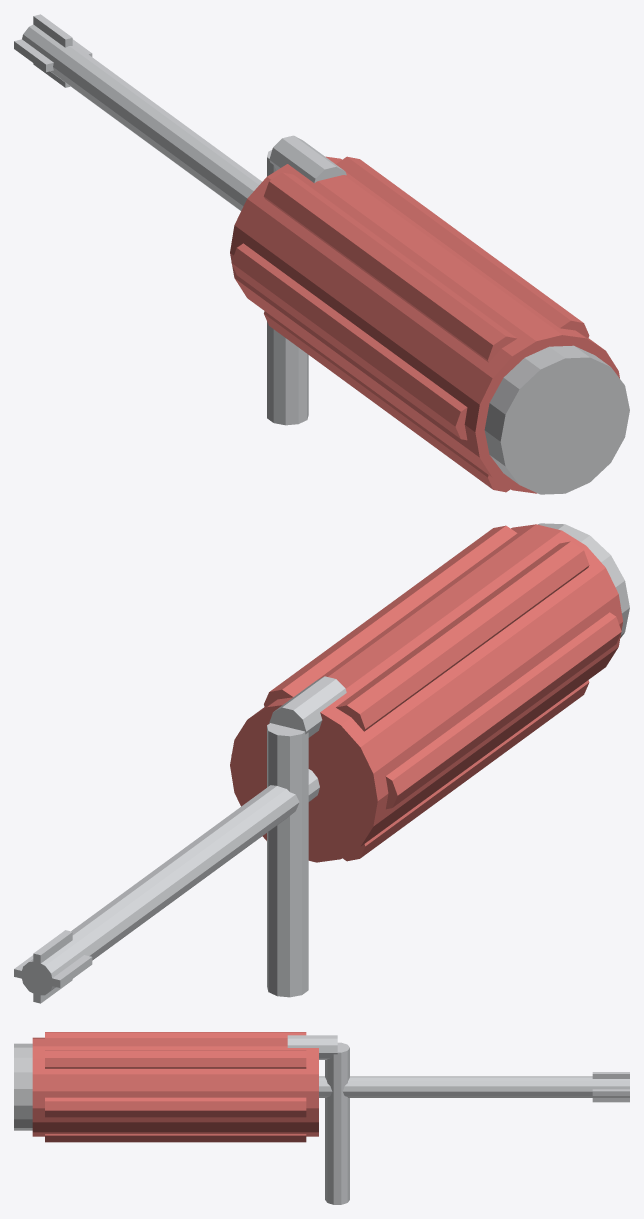
The model's file is screwdriver.glb.
3 views of the same model, one above another, from view 1: azimuth 30°, elevation 25°; view 2: azimuth 150°, elevation 25°; view 3: azimuth 270°, elevation 25° (orthographic). The views are drawn at different scales.
Parts seen in each view (by area): view 1: plastic_red, plastic_gray, steel; view 2: plastic_red, steel, plastic_gray; view 3: plastic_red, steel, plastic_gray.
Part boxes in pixels (x1,y1,x2,y2): plastic_red: (230,156,619,493); plastic_gray: (484,345,629,494); steel: (14,14,346,425); plastic_red: (230,524,623,862); steel: (14,676,346,1003); plastic_gray: (538,523,629,637); plastic_red: (32,1032,318,1142); steel: (287,1035,629,1204); plastic_gray: (14,1043,32,1130).
Bounding box in the file's own units: 0.036 × 0.0578 × 0.198.
